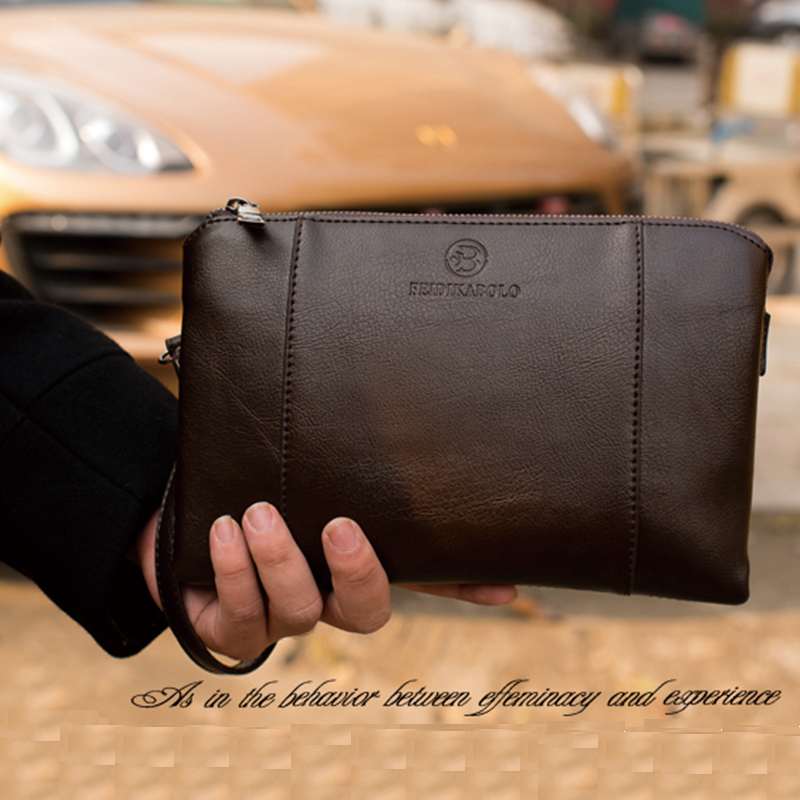monedero: (168, 203, 775, 607)
